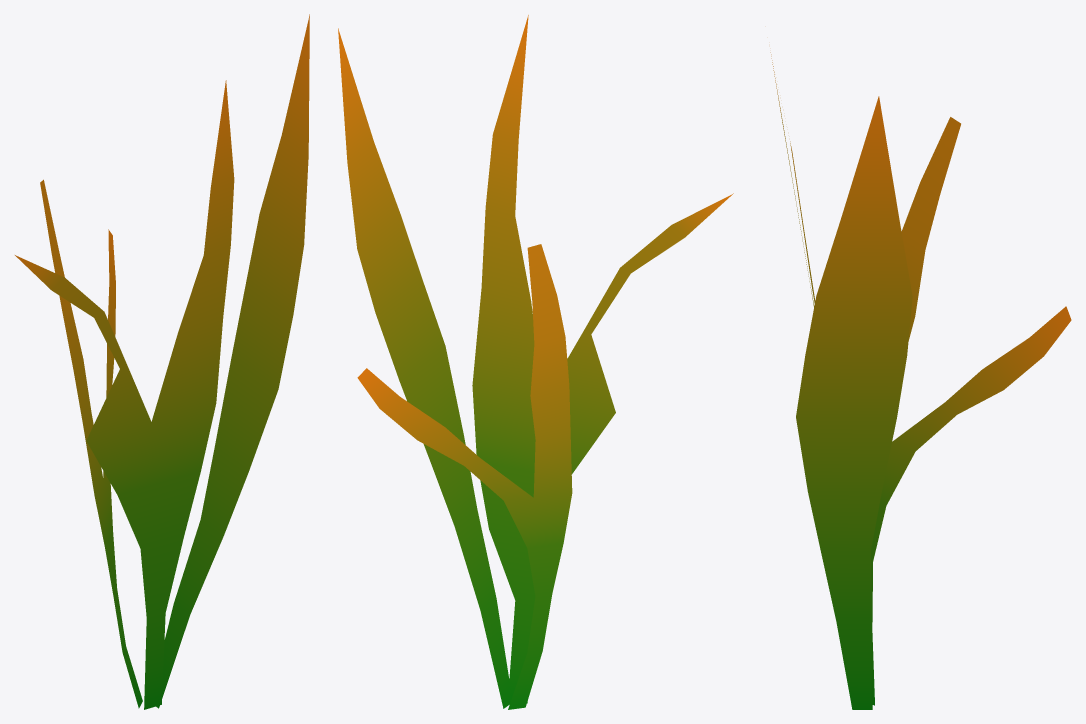
Rendered from Common Eelgrass_LOD1_Var8_sjglk.fbx.
3 renders of one model, left to right at view 1: azimuth 30°, elevation 25°; view 2: azimuth 150°, elevation 25°; view 3: azimuth 270°, elevation 25°, orthographic. The views are drawn at different scales.
Visible parts, largest first — view 1: _cae1_Var8_LOD1; view 2: _cae1_Var8_LOD1; view 3: _cae1_Var8_LOD1.
Part boxes in pixels (box(x1,y1,x2,y2)): _cae1_Var8_LOD1: box(15, 14, 309, 709); _cae1_Var8_LOD1: box(338, 15, 733, 709); _cae1_Var8_LOD1: box(770, 52, 1071, 709).
Size of the model in its own units: 39.41 by 71.07 by 28.07.
